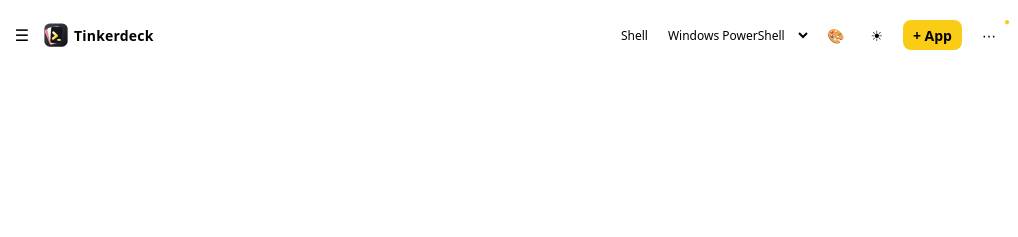
Scenario: TopBar groups › R3: an available update stays noticeable while Updates sits inside Utilities
Click the button named "Utilities, update 1.3.0 available".
click(989, 35)  # box [972, 20, 1006, 50]
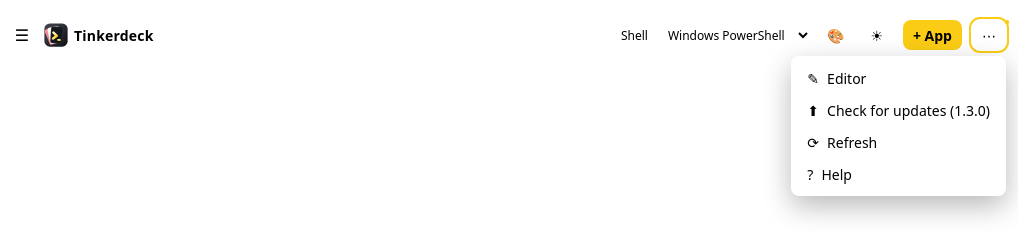
Expected: the menu item "⬆ Check for updates (1.3.0)" is shown, [797, 94, 1000, 126]
